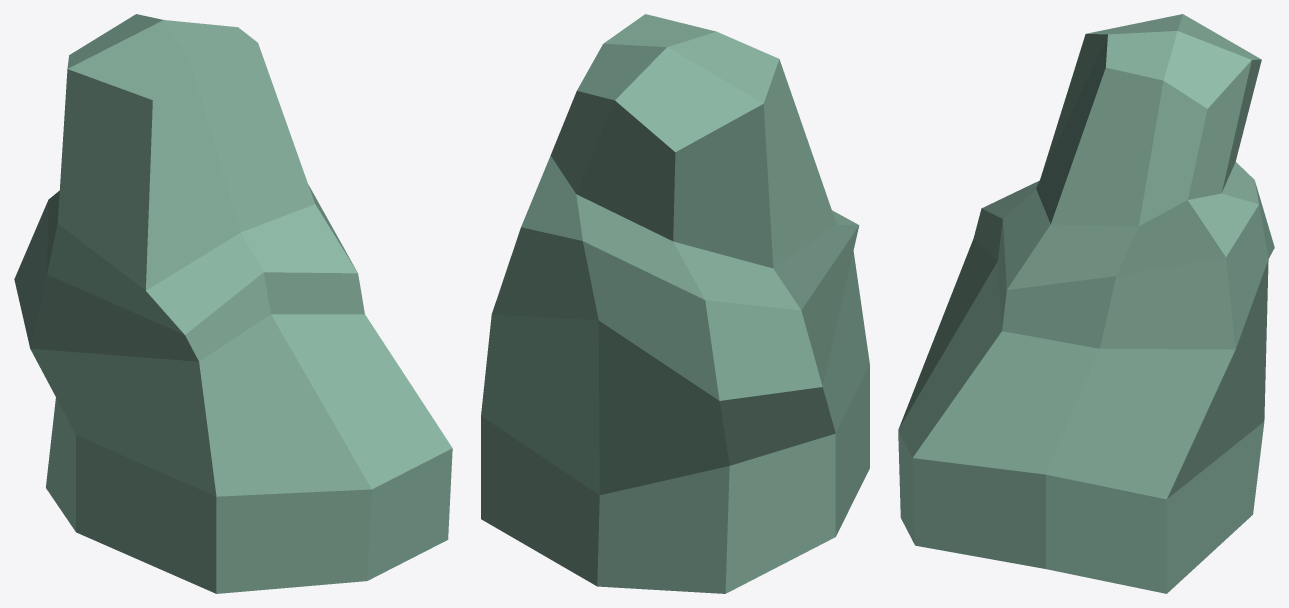
File: Rock_19Color3.fbx
3 renders of one model, left to right at view 1: azimuth 30°, elevation 25°; view 2: azimuth 150°, elevation 25°; view 3: azimuth 270°, elevation 25°, orthographic. The views are drawn at different scales.
Parts seen in each view (by area): view 1: Rock_19; view 2: Rock_19; view 3: Rock_19.
Part boxes in pixels (x1=…): Rock_19: x1=14, y1=14, x2=452, y2=593; Rock_19: x1=481, y1=14, x2=869, y2=593; Rock_19: x1=898, y1=14, x2=1274, y2=593.
Size of the model in its own units: 426 by 626 by 447.
